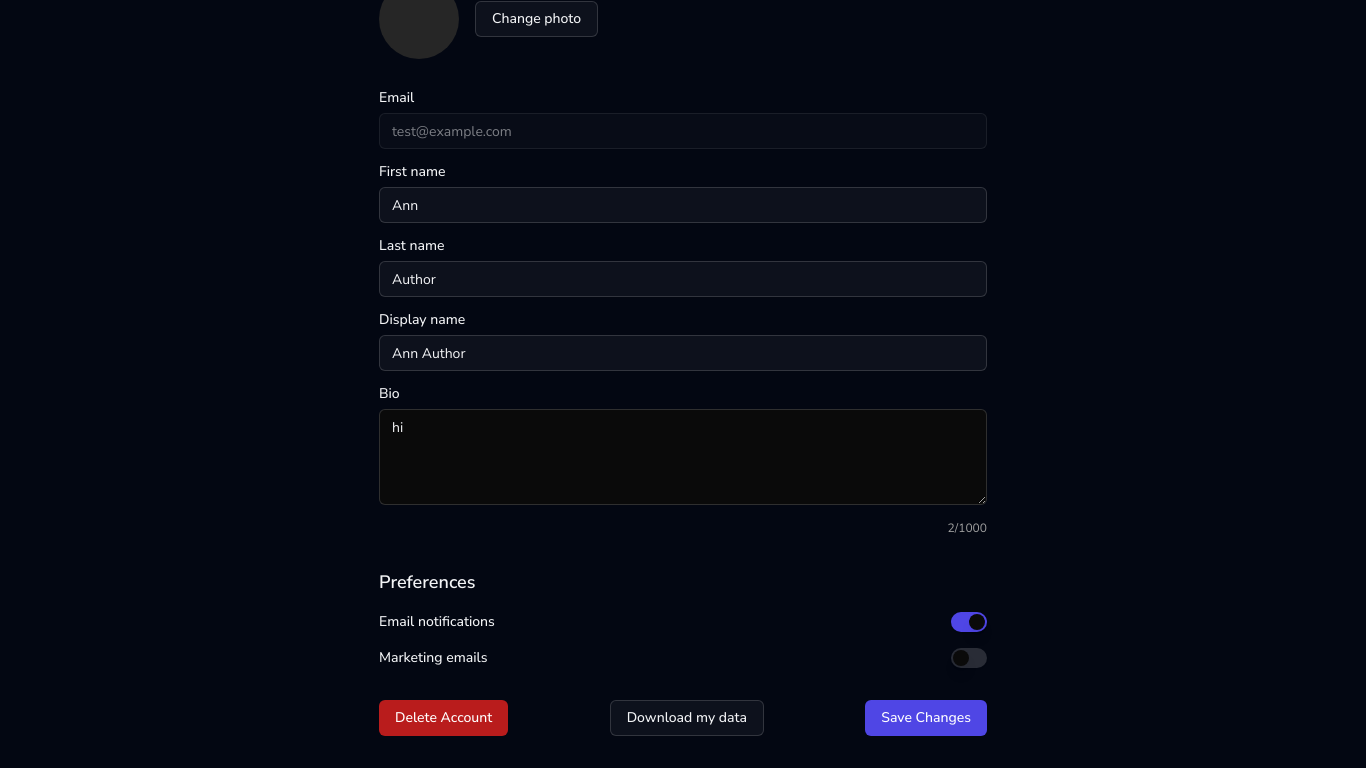
Test: ProfilePage account deletion type-to-confirm (#216) › warns that a paid subscription is cancelled with the account (#764)
(page scrolled)
Expected: the button "Save Changes" is enabled, [865,700,987,736]
Click the button "Delete Account" at (444, 718), box [379,700,508,736]
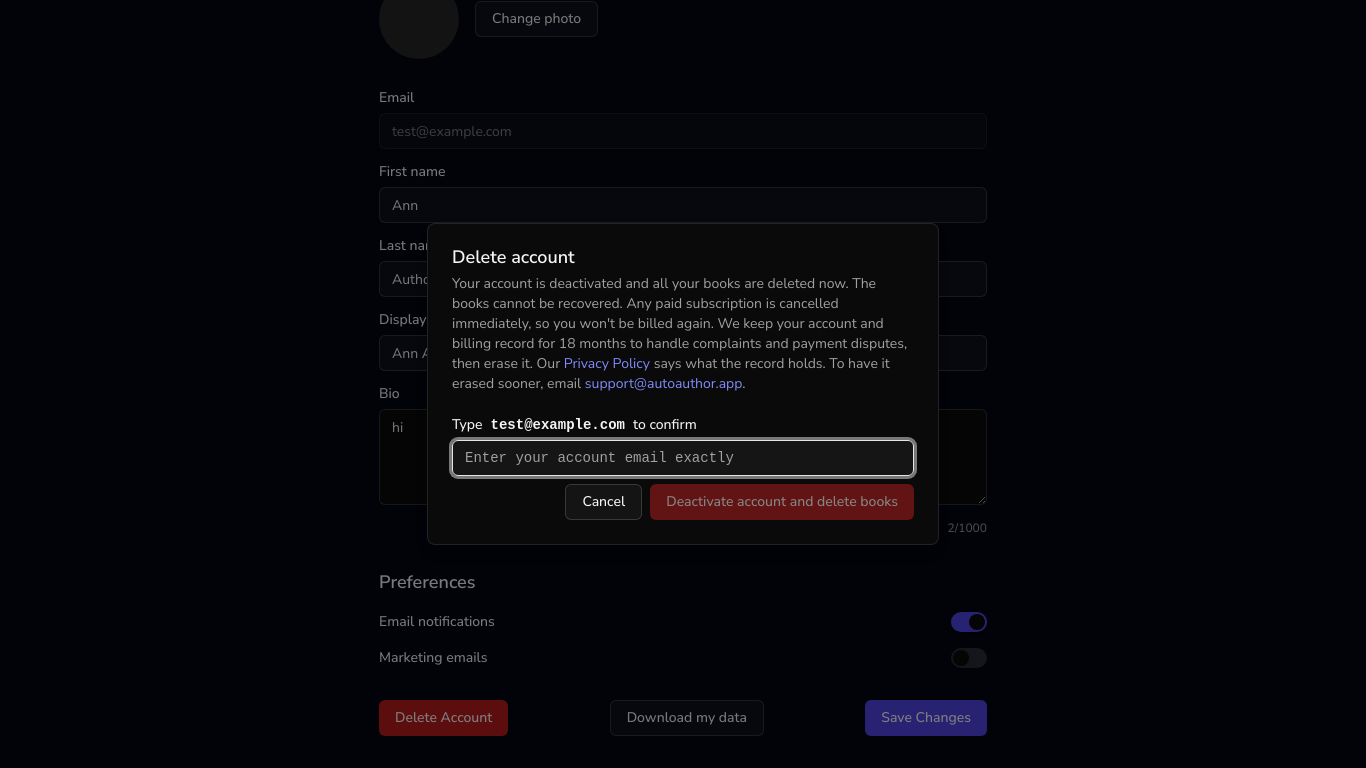
Expected: the dialog shows "subscription is cancelled immediately", [452,274,907,373]
